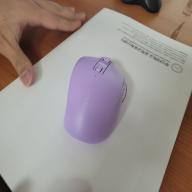mouse: (62, 55, 126, 145)
